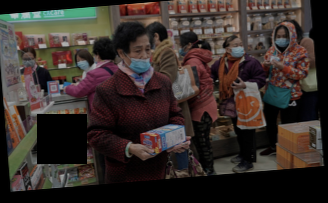mask_weared_incorrect: (127, 43, 153, 73)
with_mask: (229, 42, 246, 59), (275, 32, 292, 47), (21, 54, 35, 68), (77, 56, 90, 71), (179, 41, 189, 56)
